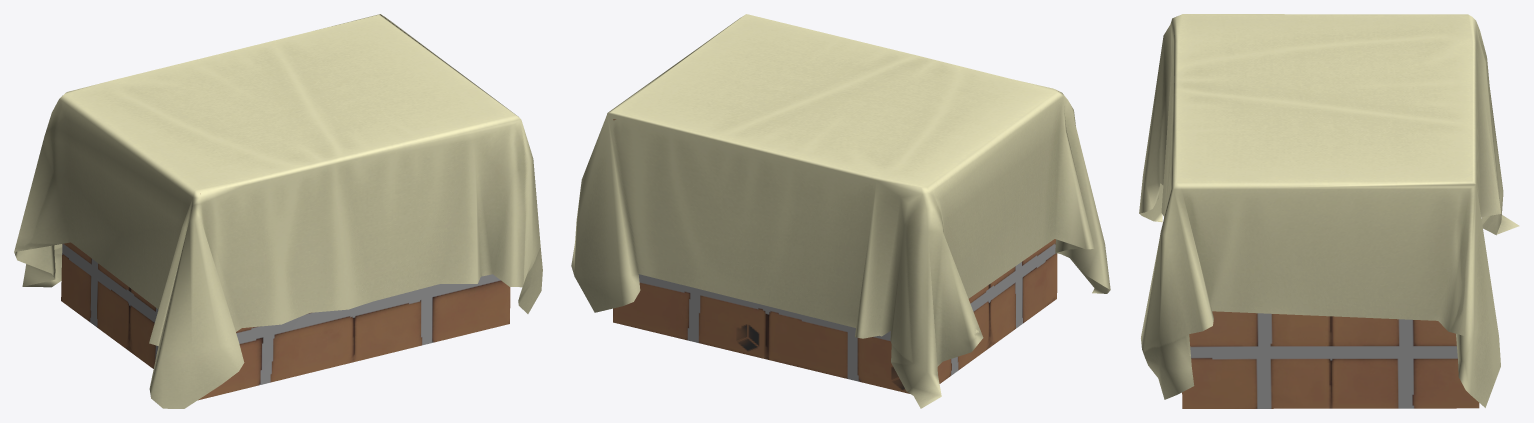
File: Pfb_Box_GRP__13.fbx
3 renders of one model, left to right at view 1: azimuth 30°, elevation 25°; view 2: azimuth 150°, elevation 25°; view 3: azimuth 270°, elevation 25°, orthographic. The views are drawn at different scales.
Visible parts, largest first — view 1: MAT_Canvas_01_Yellow_Smooth, Mat_BoxGroup_01_Gray; view 2: MAT_Canvas_01_Yellow_Smooth, Mat_BoxGroup_01_Gray; view 3: MAT_Canvas_01_Yellow_Smooth, Mat_BoxGroup_01_Gray.
Part boxes in pixels (<box>): MAT_Canvas_01_Yellow_Smooth: <box>14,14,542,408</box>; Mat_BoxGroup_01_Gray: <box>61,193,510,400</box>; MAT_Canvas_01_Yellow_Smooth: <box>571,14,1110,408</box>; Mat_BoxGroup_01_Gray: <box>613,91,1058,393</box>; MAT_Canvas_01_Yellow_Smooth: <box>1139,14,1519,407</box>; Mat_BoxGroup_01_Gray: <box>1176,16,1479,408</box>.
Bounding box in the file's own units: 2.45 × 1.19 × 1.79.
Materials: 2 (2 with a texture image).
